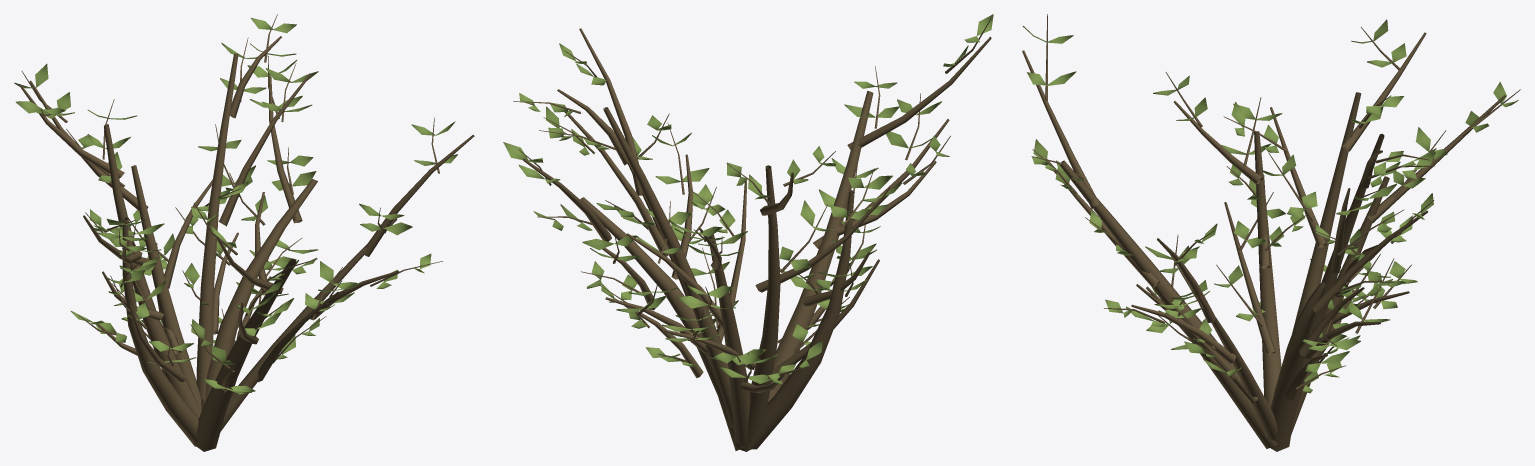
File: Lentisque_2_Low.fbx
The picture shows the model from 3 angles, left to right: view 1: azimuth 30°, elevation 25°; view 2: azimuth 150°, elevation 25°; view 3: azimuth 270°, elevation 25°; orthographic projection. The views are drawn at different scales.
Visible parts, largest first — view 1: Lentisque_2_Low; view 2: Lentisque_2_Low; view 3: Lentisque_2_Low.
Boxes of the visible parts, x1,y1,x2,y2 form: Lentisque_2_Low: [14, 14, 474, 451]; Lentisque_2_Low: [503, 14, 993, 451]; Lentisque_2_Low: [1022, 14, 1520, 451].
Bounding box in the file's own units: 151 × 141 × 171.
